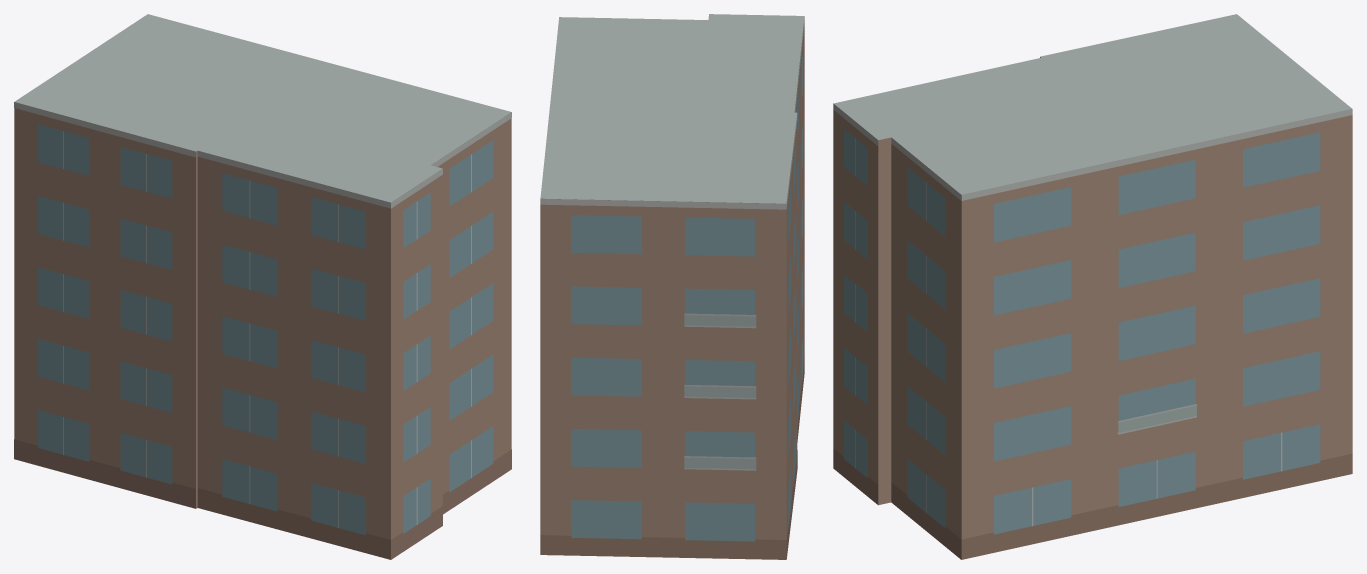
Rendered from survey-upis-32637671.glb.
The picture shows the model from 3 angles, left to right: view 1: azimuth 30°, elevation 25°; view 2: azimuth 150°, elevation 25°; view 3: azimuth 270°, elevation 25°; orthographic projection. The views are drawn at different scales.
Parts seen in each view (by area): view 1: survey-upis-32637671.tmp; view 2: survey-upis-32637671.tmp; view 3: survey-upis-32637671.tmp.
Boxes of the visible parts, bbox=[...] form: survey-upis-32637671.tmp: bbox=[14, 14, 511, 559]; survey-upis-32637671.tmp: bbox=[540, 14, 804, 559]; survey-upis-32637671.tmp: bbox=[833, 14, 1352, 559].
Size of the model in its own units: 15.42 by 14.5 by 18.7.
